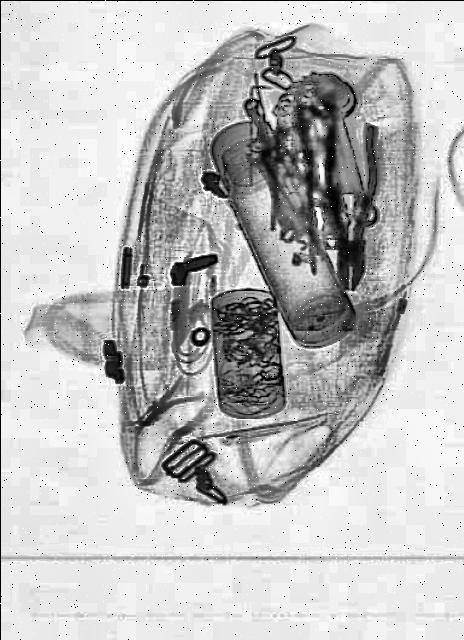Pliers: (320, 116, 376, 292)
